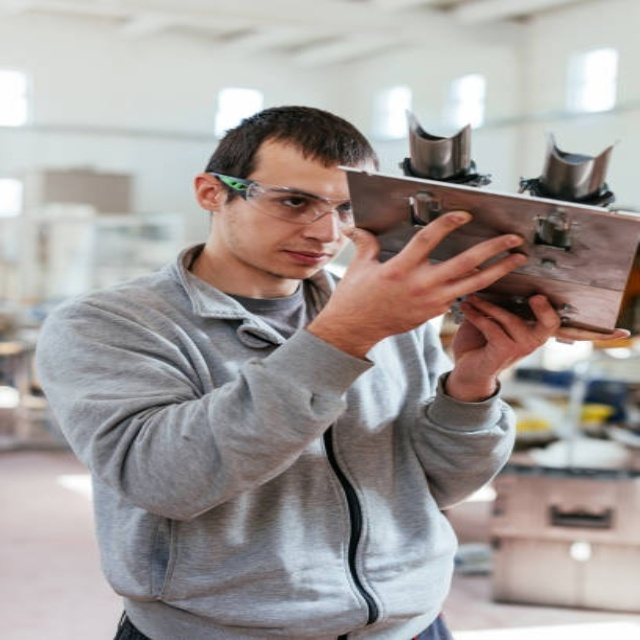Gafas: (213, 174, 356, 224)
Sin_guantes: (336, 210, 541, 328), (446, 291, 570, 396)
Sin_mascara: (257, 243, 342, 276)
